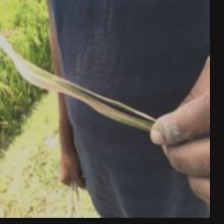Leaf_Blast: (14, 66, 143, 111)
